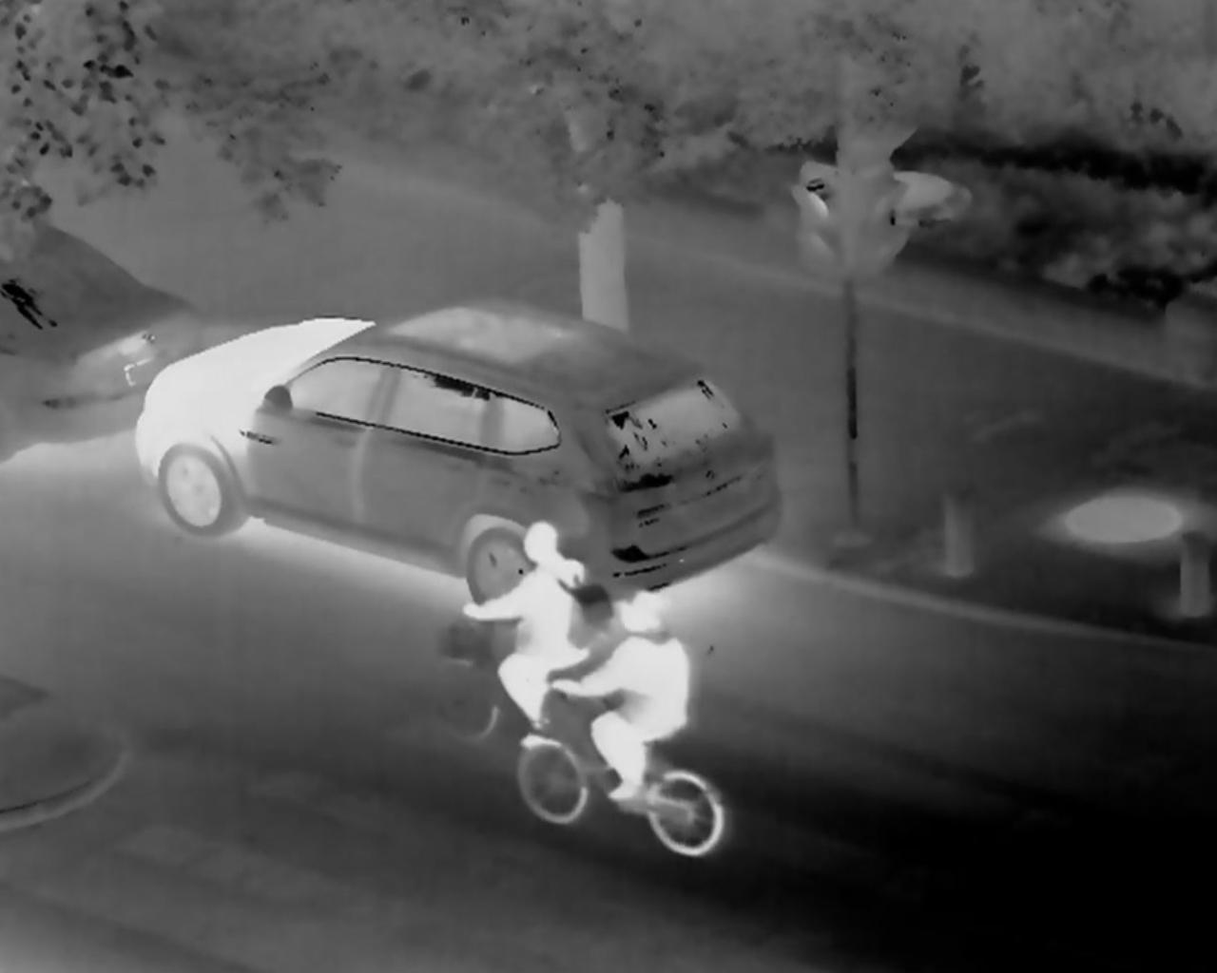person: (460, 520, 605, 748), (547, 589, 687, 807)
